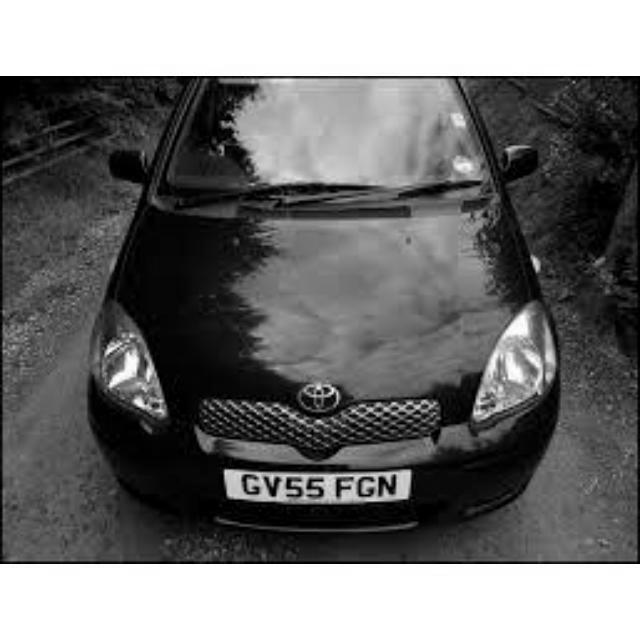bonnet-dent: (232, 253, 471, 409)
